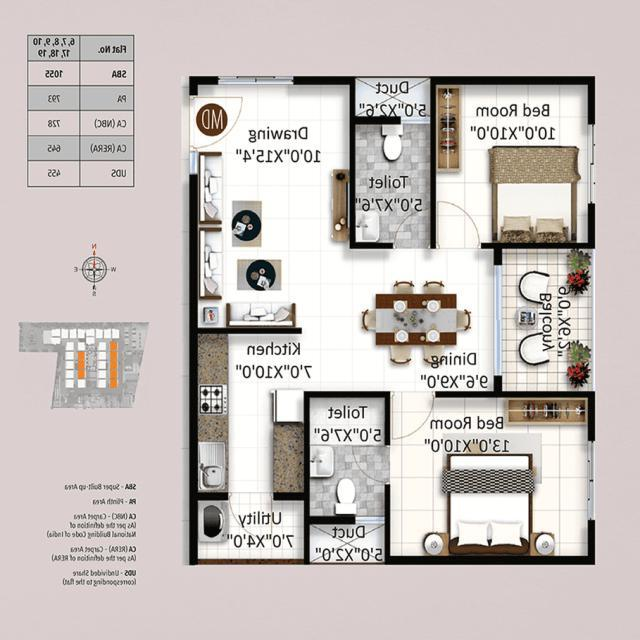Balcony-Sitout: (498, 247, 595, 391)
Bedroom: (439, 83, 590, 245)
Bedroom with Toilet: (307, 392, 590, 559)
Dining: (354, 277, 476, 375)
Enterance-Foyer: (186, 88, 245, 151)
Kitchen: (195, 330, 352, 497)
Living: (194, 81, 349, 329)
Toilet: (358, 120, 434, 250), (309, 394, 387, 519)
Utility: (195, 498, 305, 562)
